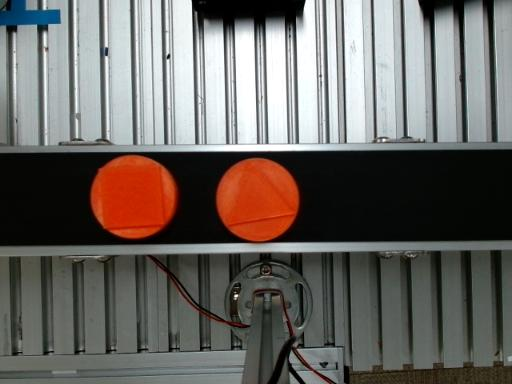Not_Square: (224, 159, 297, 227)
Orange_Waper: (90, 156, 178, 238), (215, 158, 299, 242)
Square: (100, 164, 165, 229)
